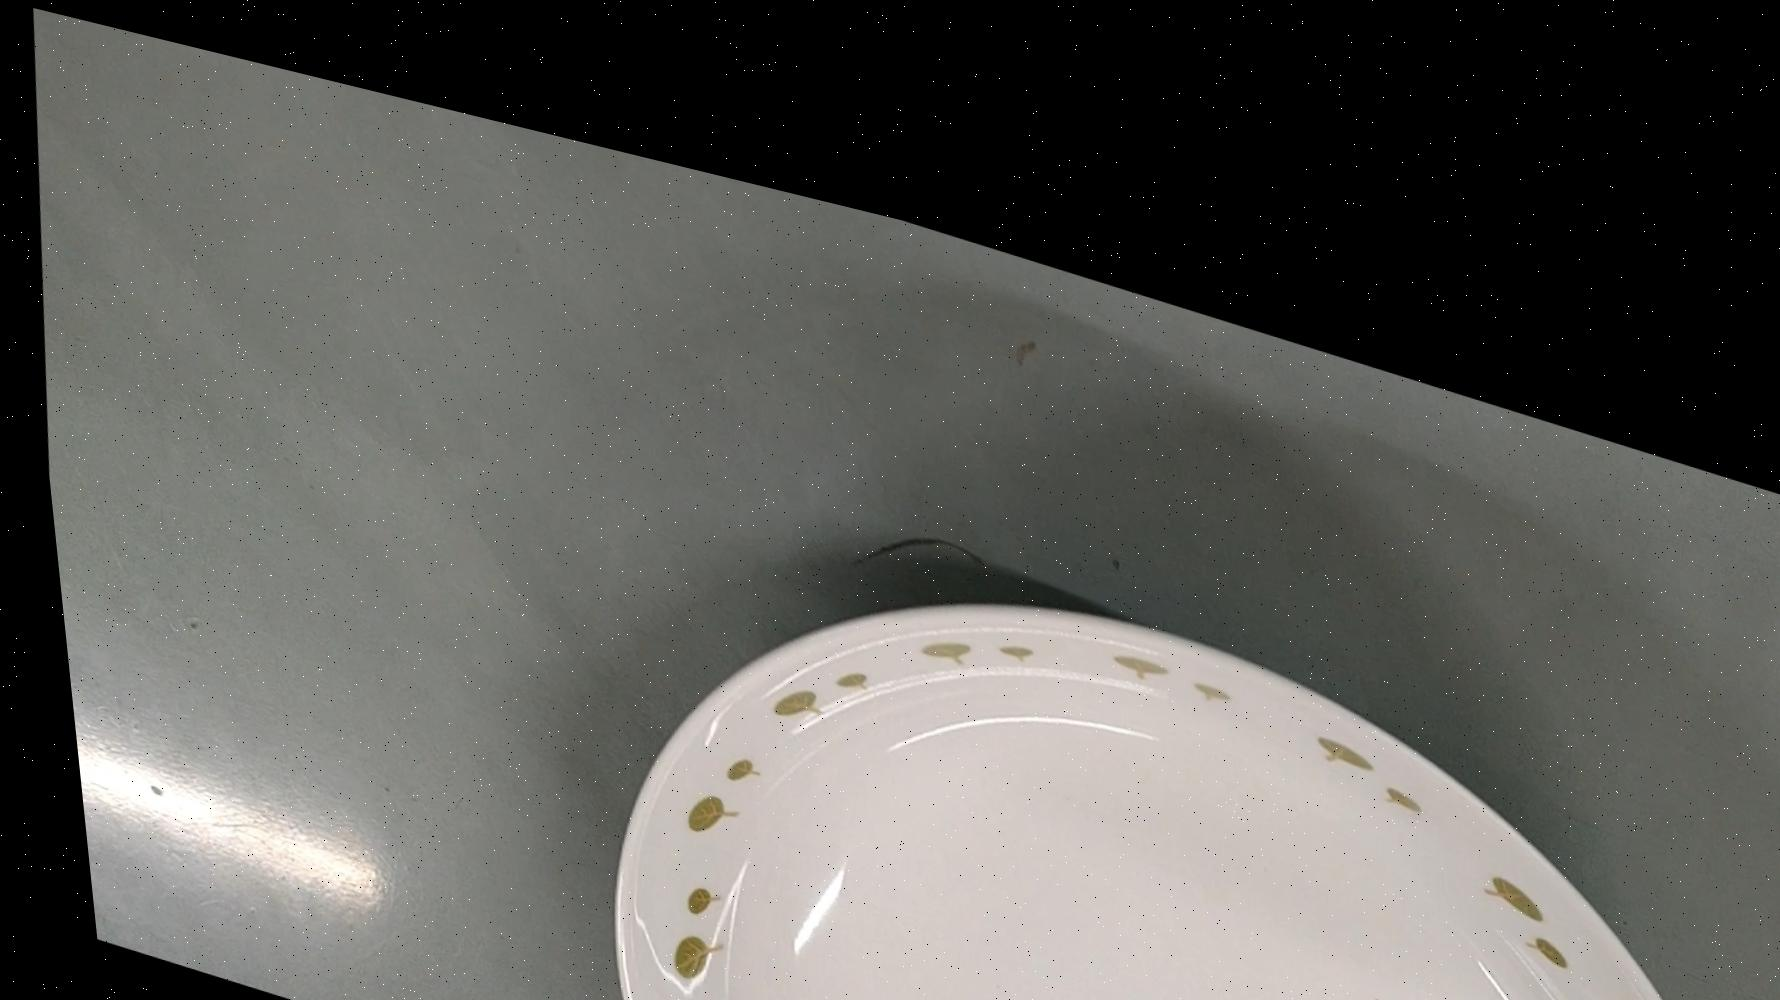plate: (546, 417, 1780, 1000)
